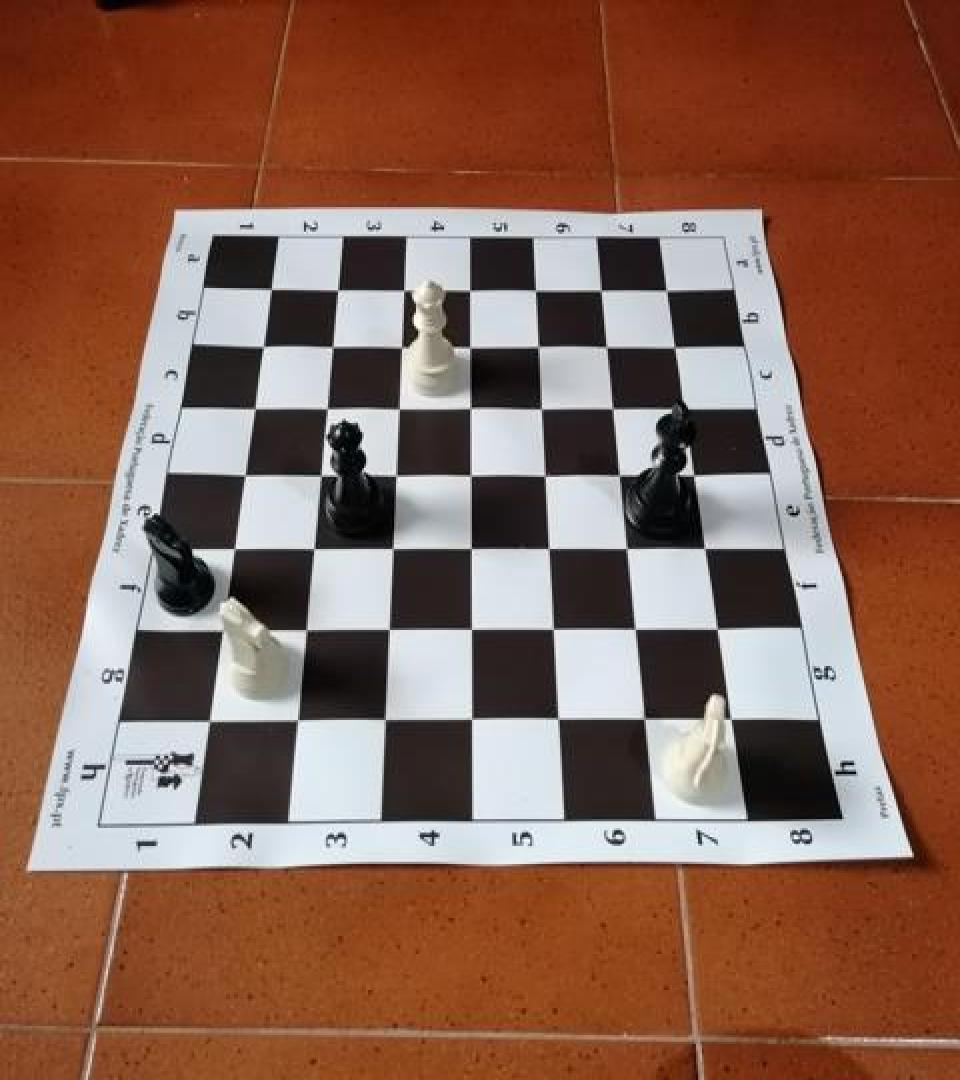xcorner: (656, 272, 686, 306), (591, 271, 621, 305), (525, 271, 555, 305), (458, 270, 488, 304), (392, 270, 422, 304), (325, 270, 355, 304), (257, 269, 287, 303), (596, 327, 626, 361), (528, 327, 558, 361), (459, 327, 489, 361), (389, 327, 419, 361), (319, 327, 349, 361), (249, 326, 279, 360), (674, 389, 704, 423), (602, 389, 632, 423), (531, 389, 561, 423), (459, 389, 489, 423), (386, 389, 416, 423), (313, 389, 343, 423), (240, 389, 270, 423), (684, 456, 714, 490), (694, 528, 724, 562), (617, 530, 647, 564), (538, 530, 568, 564), (459, 531, 489, 565), (379, 531, 409, 565), (299, 531, 329, 565), (219, 532, 249, 566), (706, 610, 736, 644), (625, 611, 655, 645), (542, 611, 572, 645), (459, 612, 489, 646), (376, 613, 406, 647), (291, 613, 321, 647), (206, 614, 236, 648), (720, 698, 750, 732), (634, 700, 664, 734), (547, 701, 577, 735), (459, 702, 489, 736), (371, 703, 401, 737), (283, 704, 313, 738), (193, 705, 223, 739), (665, 329, 695, 362), (609, 457, 639, 490), (534, 457, 564, 490), (459, 457, 489, 490), (383, 457, 413, 490), (306, 457, 336, 490), (230, 457, 260, 490)
